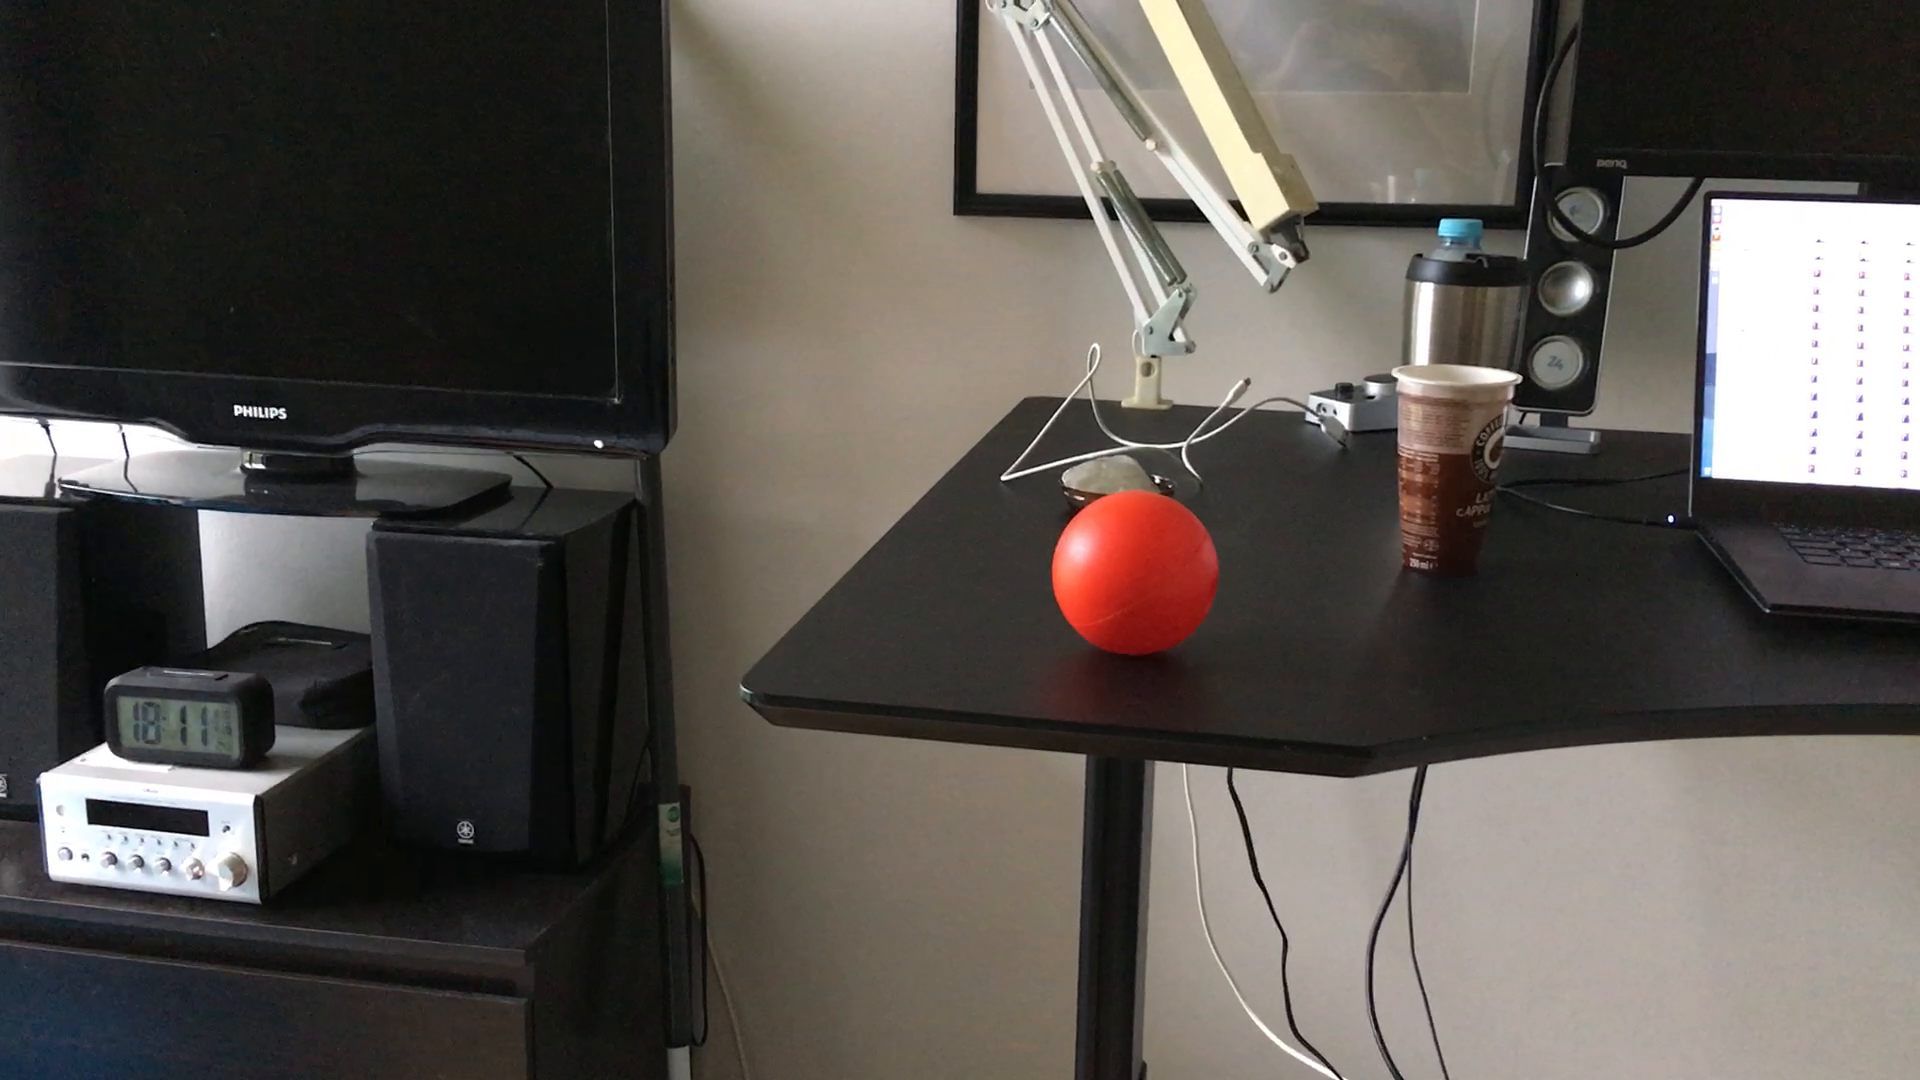Ball: (1052, 480, 1222, 655)
